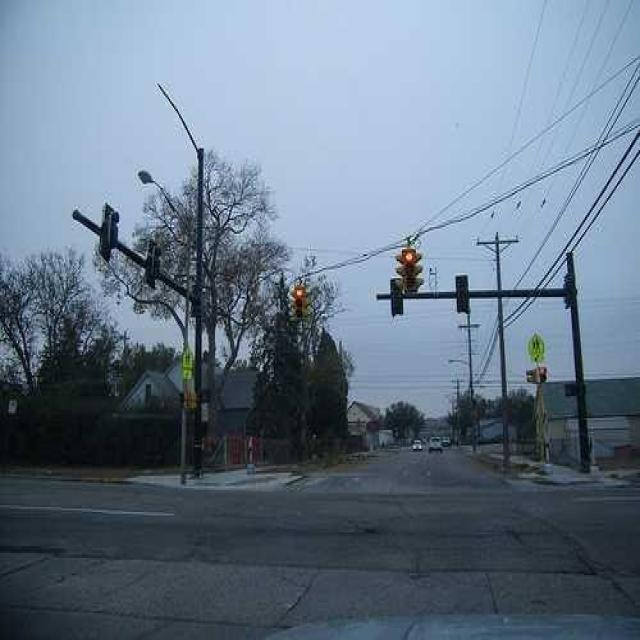Traffic Light -Red-: (399, 250, 423, 296), (294, 286, 306, 322)
